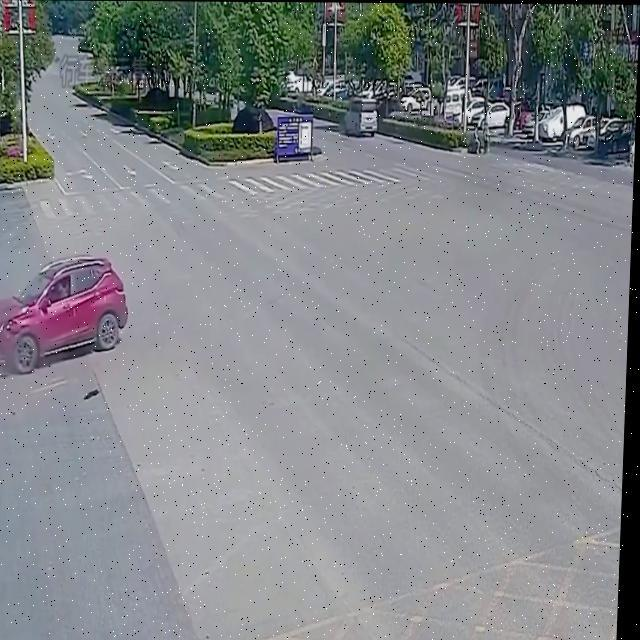single accident: (0, 234, 142, 407)
